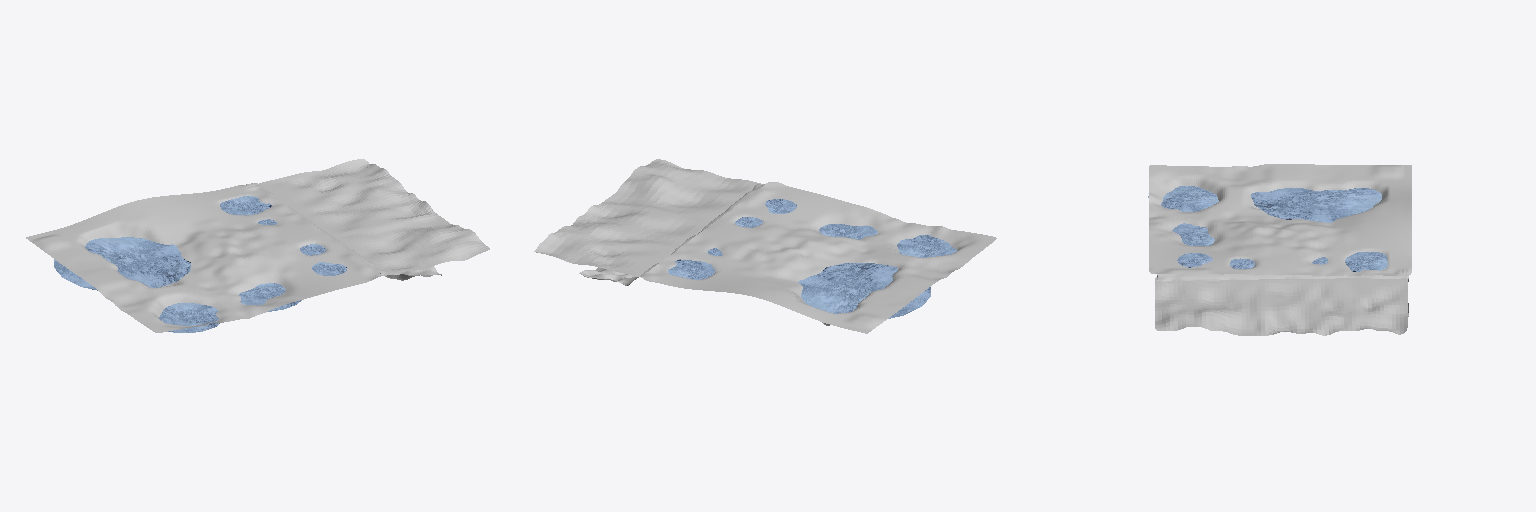
The picture shows the model from 3 angles: view 1: azimuth 30°, elevation 25°; view 2: azimuth 150°, elevation 25°; view 3: azimuth 270°, elevation 25°; orthographic projection.
Visible parts, largest first — view 1: Plane.012_Plane.070, Plane.002_Plane.004, Plane.010_Plane.068, Plane.011_Plane.069, Plane.009_Plane.067, Plane.008_Plane.066; view 2: Plane.012_Plane.070, Plane.002_Plane.004, Plane.010_Plane.068, Plane.011_Plane.069, Plane.008_Plane.066, Plane.009_Plane.067; view 3: Plane.012_Plane.070, Plane.002_Plane.004, Plane.010_Plane.068, Plane.011_Plane.069, Plane.008_Plane.066, Plane.009_Plane.067.
Part boxes in pixels (x1,y1,x2,y2): Plane.012_Plane.070: (26,183,441,332); Plane.002_Plane.004: (258,159,489,275); Plane.010_Plane.068: (54,237,190,290); Plane.011_Plane.069: (159,303,219,332); Plane.009_Plane.067: (239,283,301,311); Plane.008_Plane.066: (220,196,272,215); Plane.012_Plane.070: (579,182,996,333); Plane.002_Plane.004: (534,159,763,276); Plane.010_Plane.068: (798,263,930,318); Plane.011_Plane.069: (897,235,956,257); Plane.008_Plane.066: (668,259,715,279); Plane.009_Plane.067: (819,224,877,239); Plane.012_Plane.070: (1149,164,1411,316); Plane.002_Plane.004: (1155,277,1407,335); Plane.010_Plane.068: (1251,188,1381,222); Plane.011_Plane.069: (1148,186,1218,211); Plane.008_Plane.066: (1345,252,1387,271); Plane.009_Plane.067: (1172,223,1214,245).
Bounding box in the file's own units: 769 × 84.71 × 506.
10 materials, 1 textured.